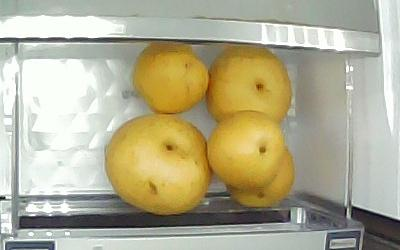pear: (104, 115, 211, 216), (206, 44, 292, 127), (206, 111, 286, 190), (130, 43, 210, 116), (226, 146, 295, 209)
